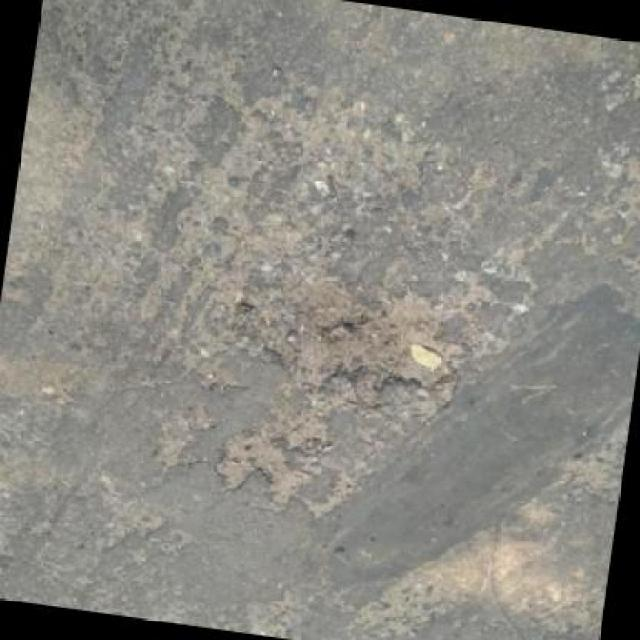pothole1: (243, 266, 479, 420), (207, 399, 362, 521)
